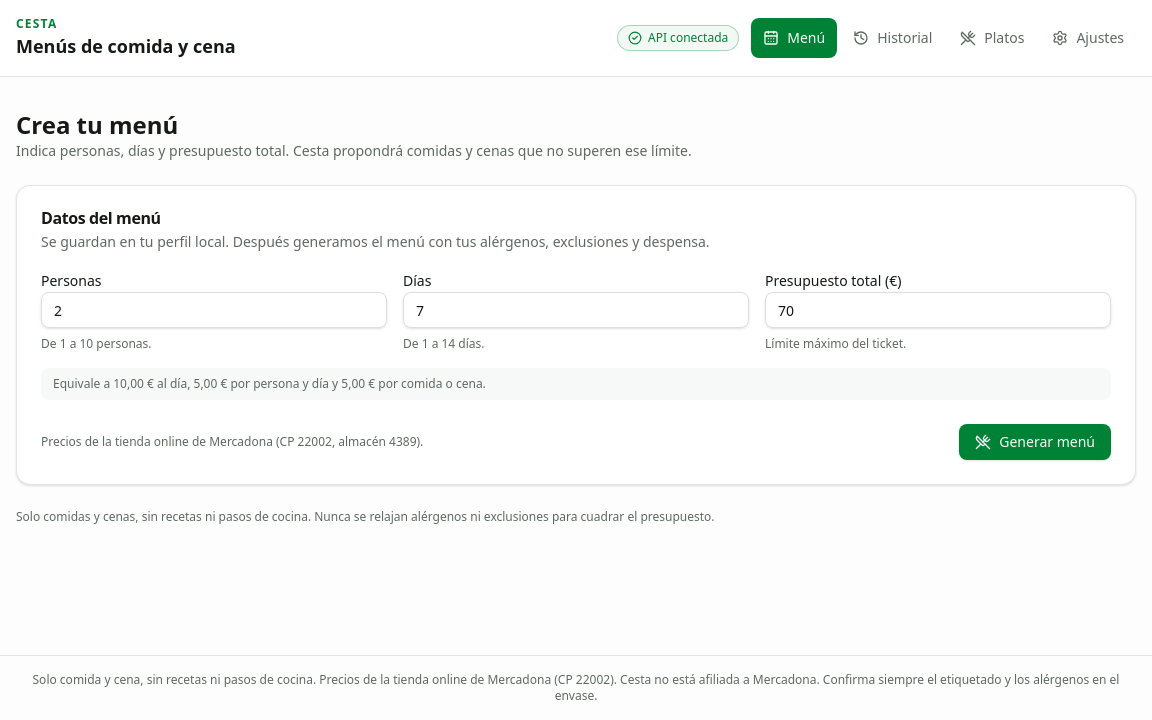
it: MenuPage › genera el menú y navega al detalle persistido
Click the button "Generar menú".
click(1035, 442)  # box [959,424,1111,460]
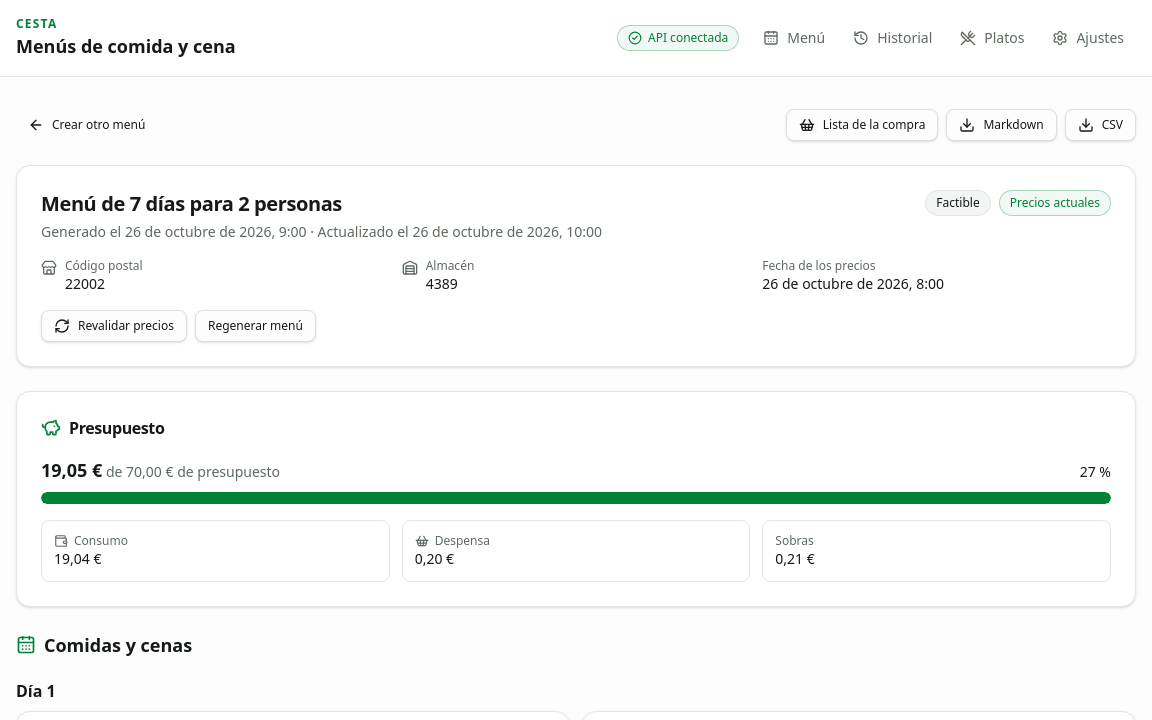
Expected: the heading "Menú de 7 días para 2 personas" is shown, [41,190,342,217]
Expected: the link "Lista de la compra" is shown, [786,109,938,141]
